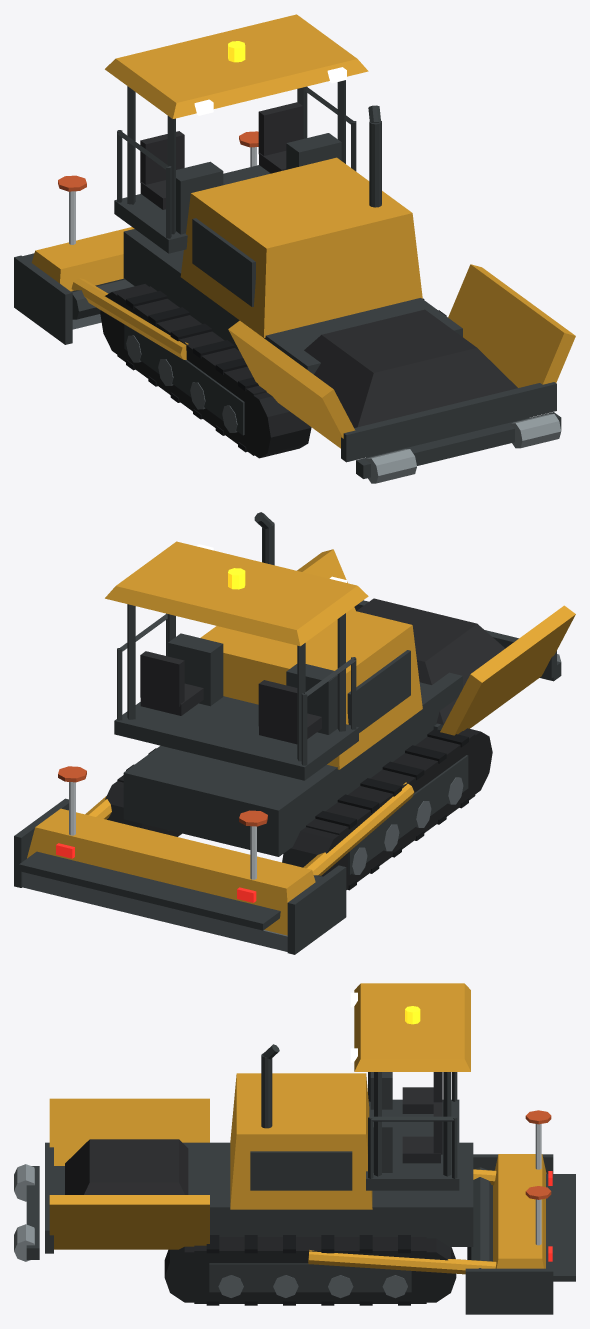
File: paving_machine.glb
3 renders of one model, top to bottom at view 1: azimuth 30°, elevation 25°; view 2: azimuth 150°, elevation 25°; view 3: azimuth 270°, elevation 25°, orthographic. The views are drawn at different scales.
Visible parts, largest first — view 1: Paver_Body, Paver_Screed; view 2: Paver_Body, Paver_Screed; view 3: Paver_Body, Paver_Screed.
Part boxes in pixels (bbox=[...]): Paver_Body: bbox=[100, 14, 575, 483]; Paver_Screed: bbox=[14, 131, 258, 359]; Paver_Body: bbox=[105, 512, 575, 890]; Paver_Screed: bbox=[14, 766, 414, 954]; Paver_Body: bbox=[14, 983, 473, 1305]; Paver_Screed: bbox=[308, 1110, 575, 1314].
Bounding box in the file's own units: 3.04 × 3.02 × 6.16.
